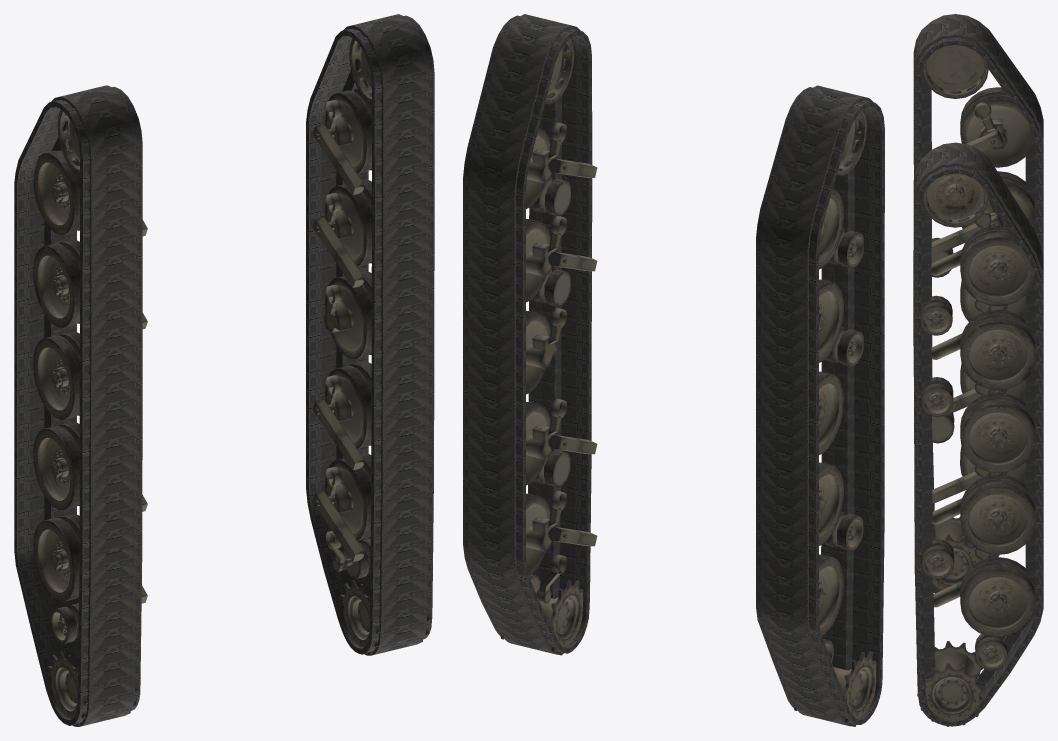
File: Chassis.glb
3 renders of one model, left to right at view 1: azimuth 30°, elevation 25°; view 2: azimuth 150°, elevation 25°; view 3: azimuth 270°, elevation 25°, orthographic. The views are drawn at different scales.
Parts seen in each view (by area): view 1: set_1_group_0, set_0_group_0, set_3_group_0, set_2_group_0; view 2: set_1_group_0, set_0_group_0, set_3_group_0, set_2_group_0; view 3: set_3_group_0, set_0_group_0, set_2_group_0, set_1_group_0.
Boxes of the visible parts, x1=… form: set_1_group_0: x1=14, y1=85, x2=142, y2=726; set_0_group_0: x1=306, y1=14, x2=434, y2=655; set_3_group_0: x1=312, y1=38, x2=430, y2=654; set_2_group_0: x1=33, y1=109, x2=147, y2=726; set_1_group_0: x1=756, y1=85, x2=884, y2=726; set_0_group_0: x1=463, y1=14, x2=592, y2=654; set_3_group_0: x1=497, y1=38, x2=597, y2=655; set_2_group_0: x1=790, y1=109, x2=876, y2=726; set_3_group_0: x1=917, y1=173, x2=1035, y2=726; set_0_group_0: x1=913, y1=142, x2=1043, y2=726; set_2_group_0: x1=922, y1=45, x2=1035, y2=589; set_1_group_0: x1=913, y1=14, x2=1043, y2=593.
Bounding box in the file's own units: 3.13 × 5.3 × 1.11.
4 materials, 4 textured.
